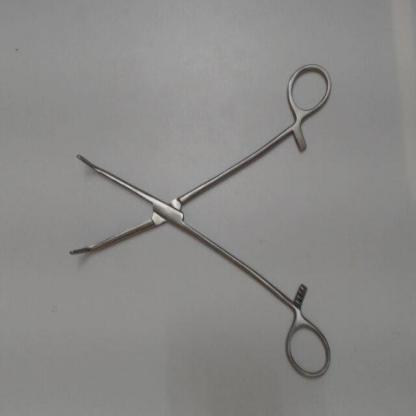Lahey Forceps: (62, 55, 338, 386)
